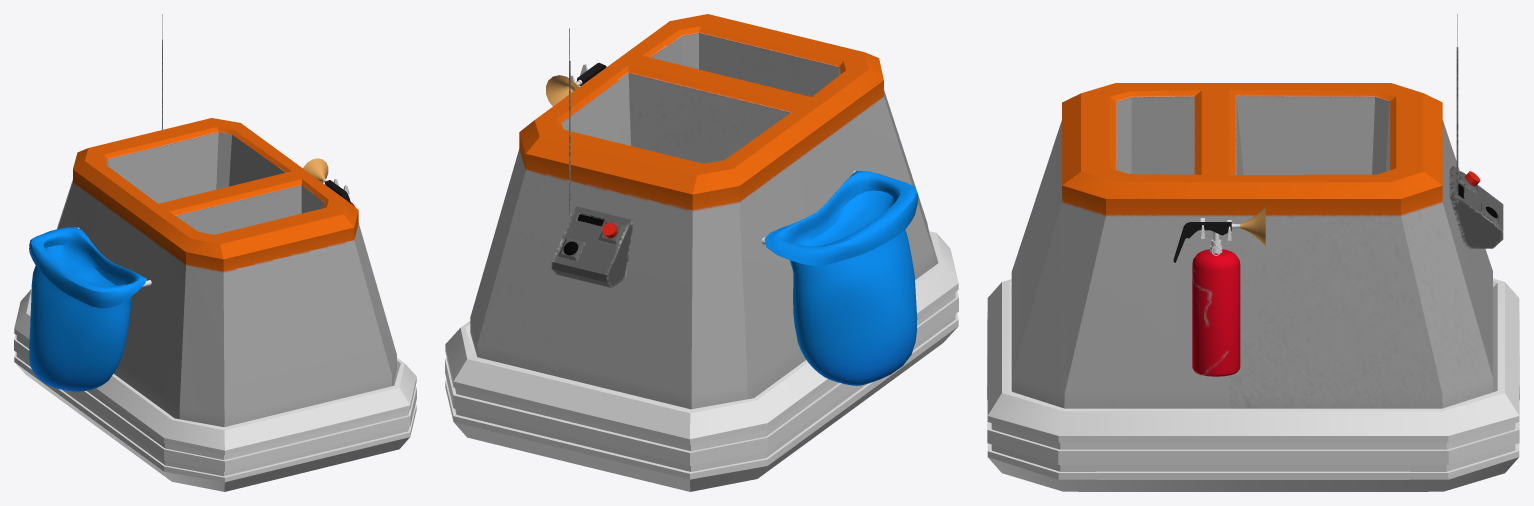
The model's file is hover tex Mesh.001.fbx.
The picture shows the model from 3 angles, left to right: view 1: azimuth 30°, elevation 25°; view 2: azimuth 150°, elevation 25°; view 3: azimuth 270°, elevation 25°; orthographic projection. The views are drawn at different scales.
Visible parts, largest first — view 1: hover tex Mesh.001_Baked; view 2: hover tex Mesh.001_Baked; view 3: hover tex Mesh.001_Baked.
Part boxes in pixels (bbox=[...]): hover tex Mesh.001_Baked: bbox=[14, 14, 416, 491]; hover tex Mesh.001_Baked: bbox=[445, 14, 958, 491]; hover tex Mesh.001_Baked: bbox=[987, 14, 1519, 491].
Bounding box in the file's own units: 302 × 305 × 350.
Materials: 1 (1 with a texture image).
